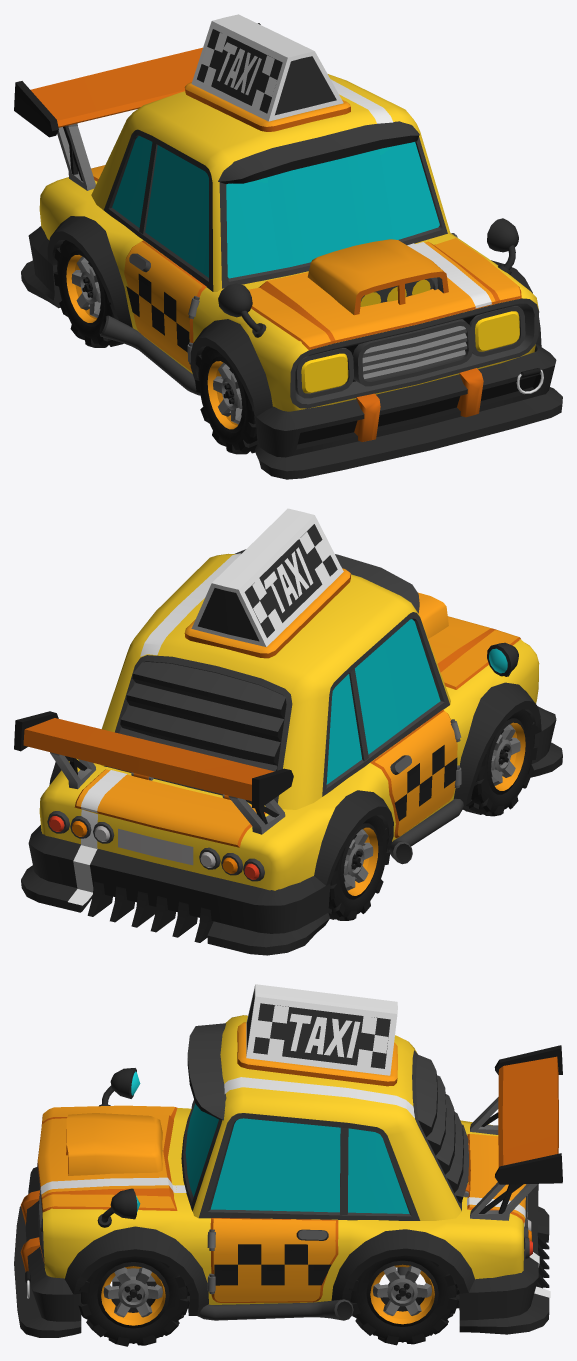
Rendered from VEH12-C.fbx.
3 renders of one model, top to bottom at view 1: azimuth 30°, elevation 25°; view 2: azimuth 150°, elevation 25°; view 3: azimuth 270°, elevation 25°, orthographic. The views are drawn at different scales.
Visible parts, largest first — view 1: VEH12_C, V12C_Wheel_FR, V12C_Wheel_BR, V12C_BodyParts; view 2: VEH12_C, V12C_BodyParts, V12C_Wheel_FR, V12C_Wheel_BR; view 3: VEH12_C, V12C_Wheel_FL, V12C_Wheel_BL, V12C_BodyParts.
Boxes of the visible parts, left/top/right/bottom form: VEH12_C: left=14, top=14, right=562, bottom=479; V12C_Wheel_FR: left=195, top=346, right=257, bottom=454; V12C_Wheel_BR: left=54, top=240, right=123, bottom=347; V12C_BodyParts: left=217, top=42, right=543, bottom=393; VEH12_C: left=14, top=508, right=562, bottom=955; V12C_BodyParts: left=68, top=547, right=313, bottom=905; V12C_Wheel_FR: left=463, top=709, right=538, bottom=816; V12C_Wheel_BR: left=328, top=815, right=390, bottom=920; VEH12_C: left=14, top=984, right=562, bottom=1337; V12C_Wheel_FL: left=78, top=1256, right=189, bottom=1346; V12C_Wheel_BL: left=349, top=1255, right=459, bottom=1345; V12C_BodyParts: left=25, top=1013, right=550, bottom=1298.
Bounding box in the file's own units: 256 × 249 × 421.
1 material, 1 textured.
